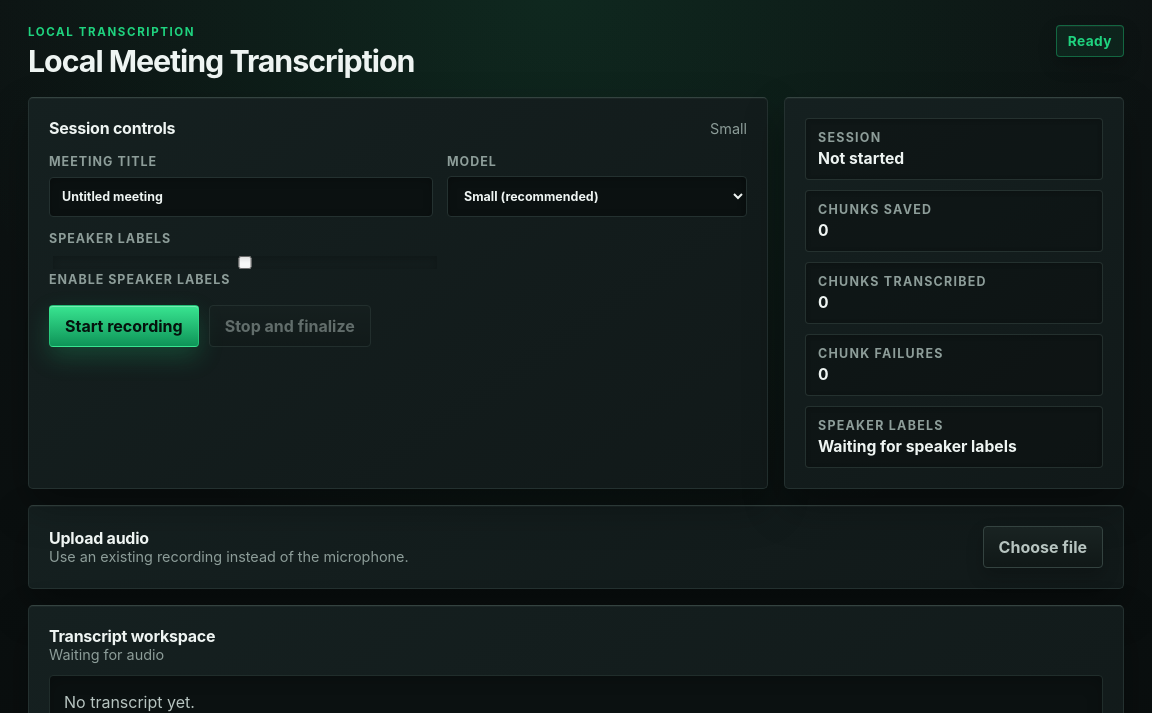
Test case: App › renders live transcript events from accepted segment data instead of parsing raw text
The width and height of the screenshot is (1152, 713).
Click the button "Start recording" at (124, 326), box left=49, top=305, right=199, bottom=347
(page scrolled)
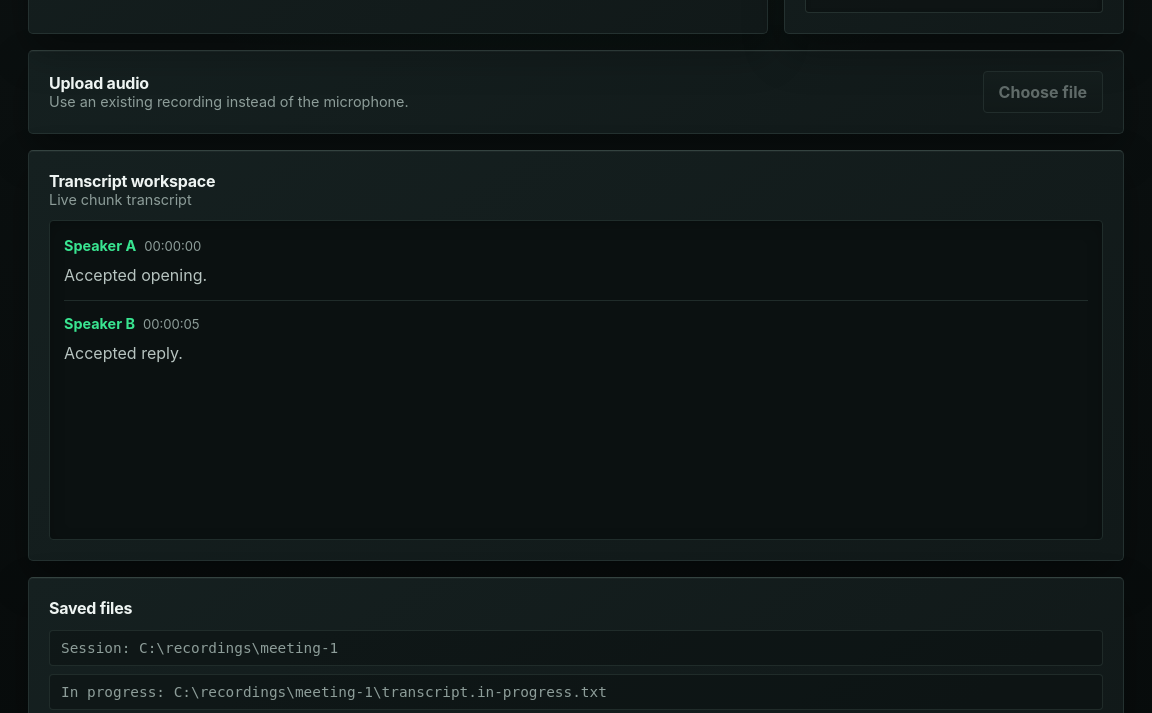
Result: the text "Speaker A" is shown at left=64, top=235, right=136, bottom=257
Result: the text "Speaker B" is shown at left=64, top=313, right=135, bottom=335
Result: the text "Accepted opening." is shown at left=64, top=265, right=207, bottom=285
